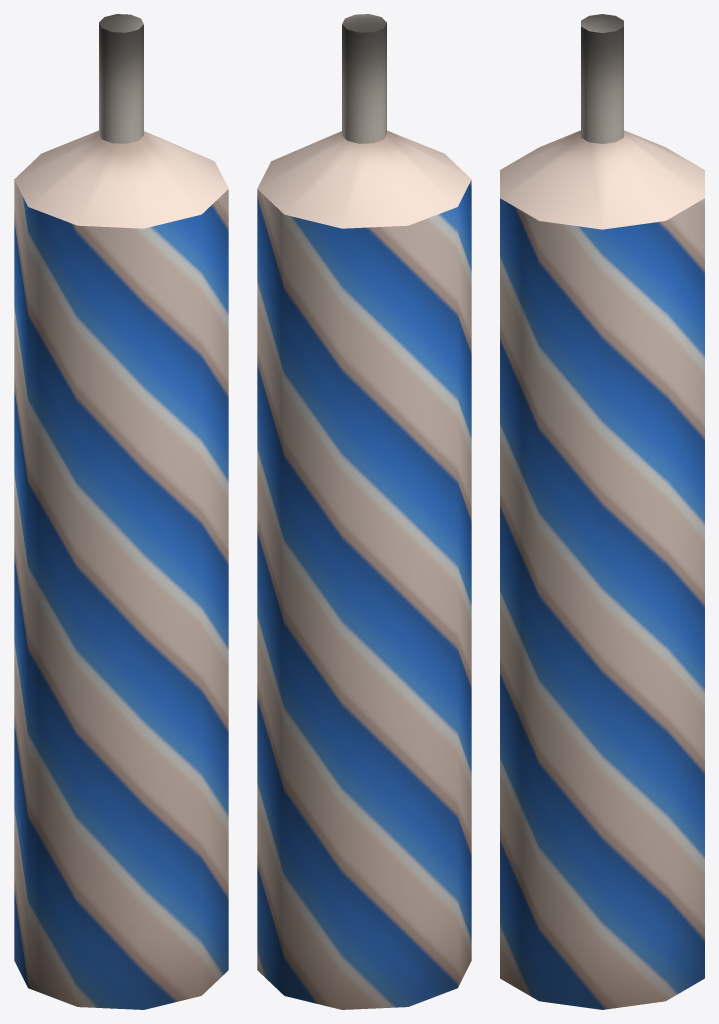
File: Candle_Blue.fbx
3 views of the same model, side by side, from view 1: azimuth 30°, elevation 25°; view 2: azimuth 150°, elevation 25°; view 3: azimuth 270°, elevation 25° (orthographic).
Visible parts, largest first — view 1: Candle_Blue; view 2: Candle_Blue; view 3: Candle_Blue.
Part boxes in pixels (x1=…): Candle_Blue: x1=14, y1=14, x2=228, y2=1009; Candle_Blue: x1=257, y1=14, x2=471, y2=1009; Candle_Blue: x1=500, y1=14, x2=704, y2=1009.
Bounding box in the file's own units: 4.86 × 23.5 × 4.62.
